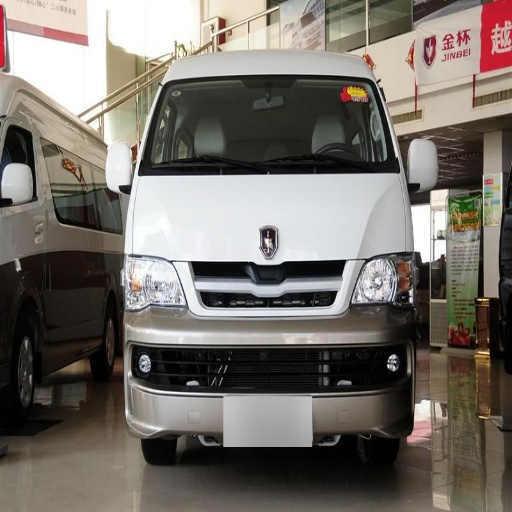front_bumper: (123, 216, 418, 444)
front_right_light: (120, 252, 184, 307)
hood: (135, 173, 408, 260)
left_mirror: (408, 139, 438, 190)
